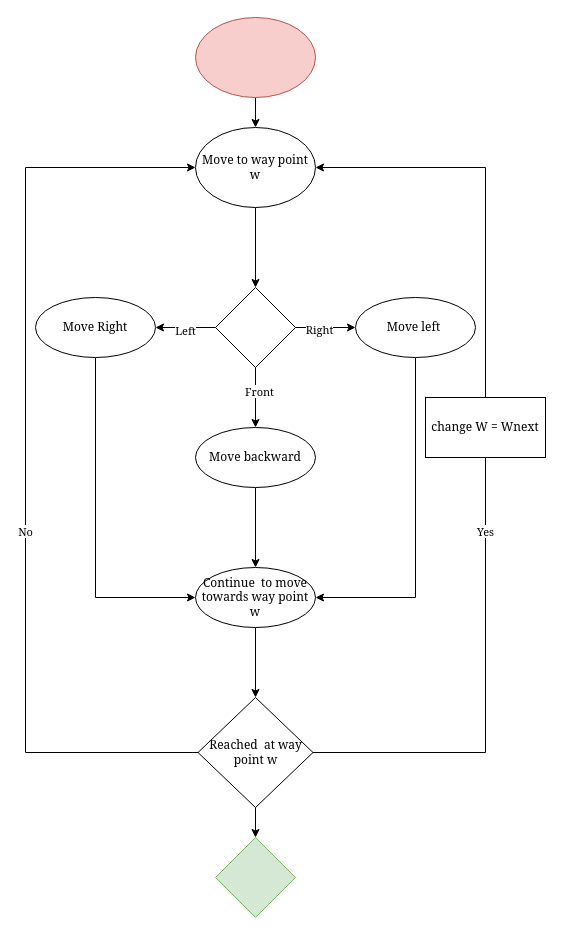
Some shapes in this 563 by 935 pixel diagram are drawn without their labels. The box of each missing label's shape, as (x1, y1, x2, y2) in pixels:
if W= Goal End: (214, 836, 296, 918)
Obstacle: (214, 286, 296, 368)
Start: (194, 16, 316, 98)
